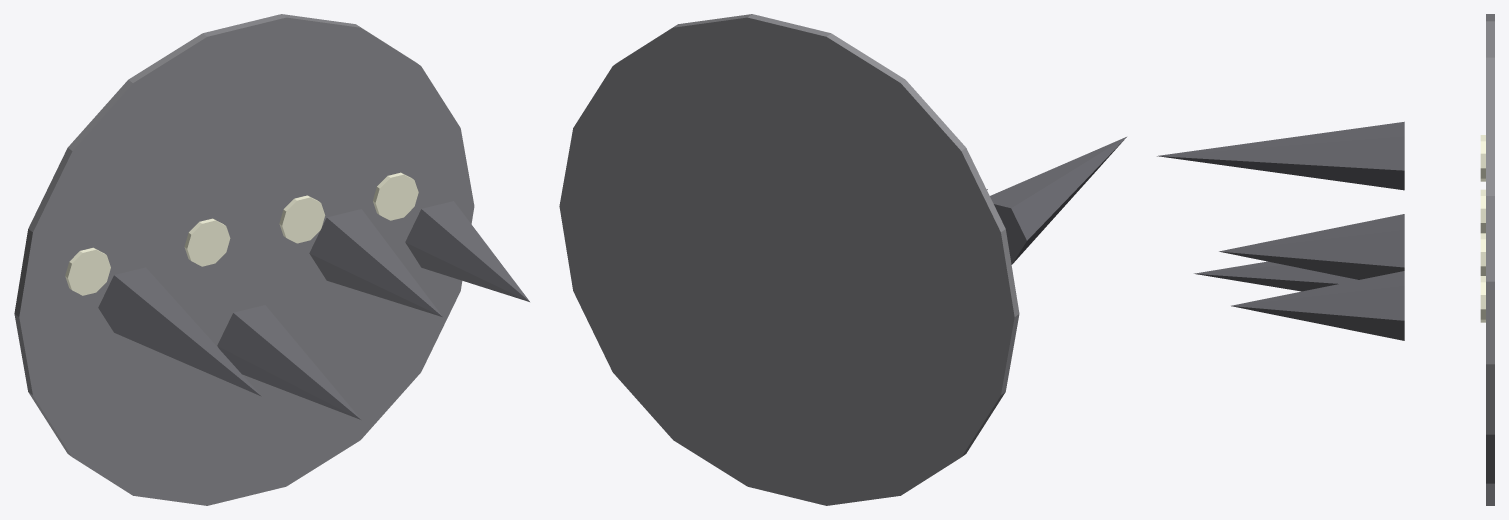
File: 04_event_hazard_cluster.glb
3 renders of one model, left to right at view 1: azimuth 30°, elevation 25°; view 2: azimuth 150°, elevation 25°; view 3: azimuth 270°, elevation 25°, orthographic. The views are drawn at different scales.
Parts seen in each view (by area): view 1: scatter_base, basalt_shard_0, basalt_shard_2, basalt_shard_1, basalt_shard_3, lava_glow_1, lava_glow_2, lava_glow_0, lava_glow_3; view 2: scatter_base, basalt_shard_0; view 3: basalt_shard_0, basalt_shard_2, basalt_shard_3, scatter_base, basalt_shard_1.
Boxes of the visible parts, box(x1,y1,x2,y2) form: scatter_base: box(14, 14, 474, 505); basalt_shard_0: box(98, 267, 261, 396); basalt_shard_2: box(309, 209, 442, 316); basalt_shard_1: box(217, 305, 360, 419); basalt_shard_3: box(405, 201, 529, 301); lava_glow_1: box(184, 218, 230, 266); lava_glow_2: box(279, 195, 325, 243); lava_glow_0: box(65, 247, 110, 295); lava_glow_3: box(373, 172, 418, 220); scatter_base: box(559, 14, 1019, 505); basalt_shard_0: box(990, 137, 1126, 264); basalt_shard_0: box(1157, 121, 1404, 190); basalt_shard_2: box(1219, 214, 1404, 279); basalt_shard_3: box(1231, 271, 1404, 340); scatter_base: box(1486, 14, 1494, 505); basalt_shard_1: box(1194, 261, 1357, 291).
Bounding box in the file's own units: 1.9 × 1.87 × 1.3.
